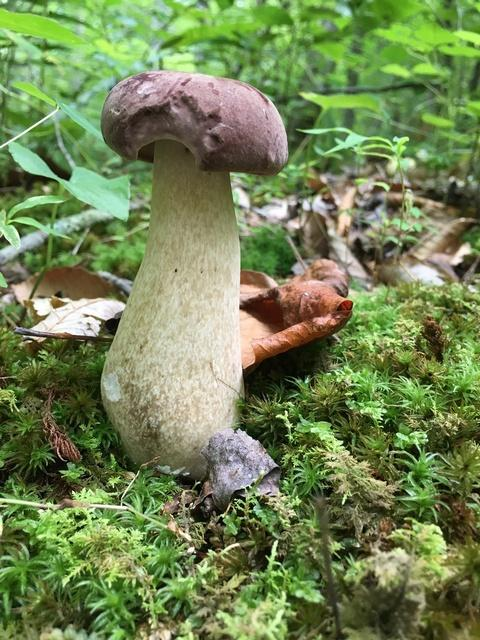poisonous_mushroom: (97, 68, 289, 481)
